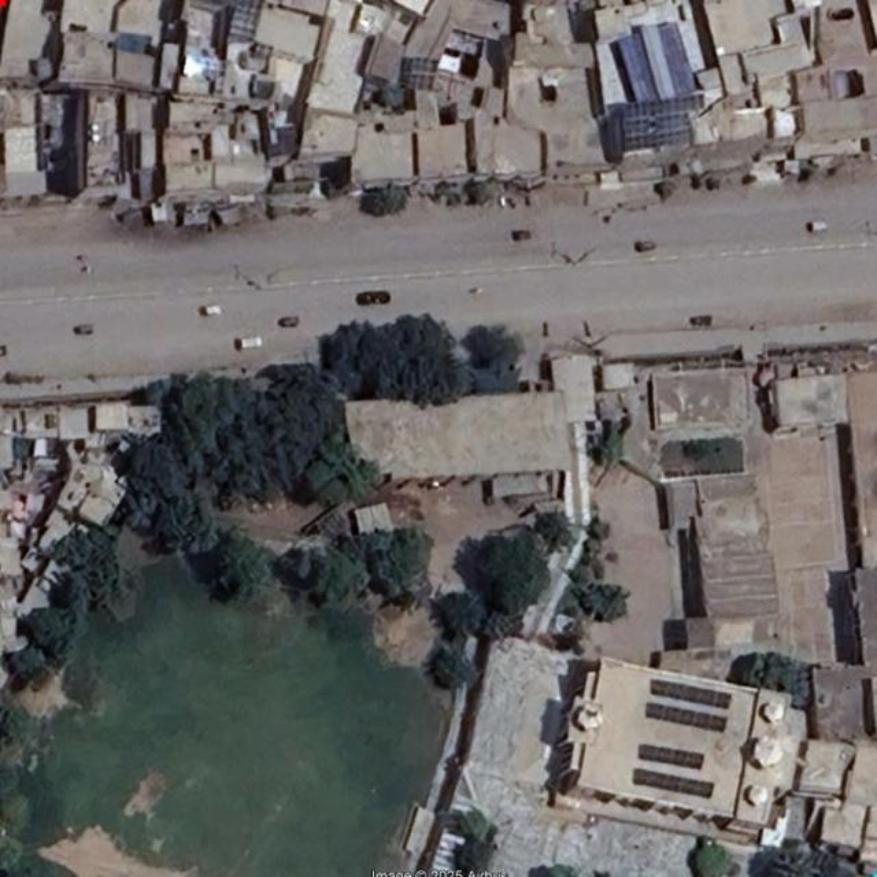Solarpanel: (619, 94, 705, 150), (652, 679, 733, 709), (637, 767, 712, 798), (646, 703, 726, 731), (638, 746, 705, 771)
